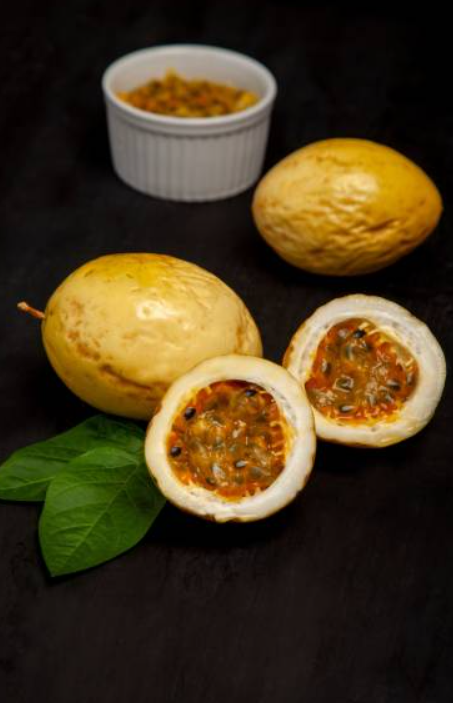maracuya: (39, 250, 268, 431), (242, 137, 441, 278)
